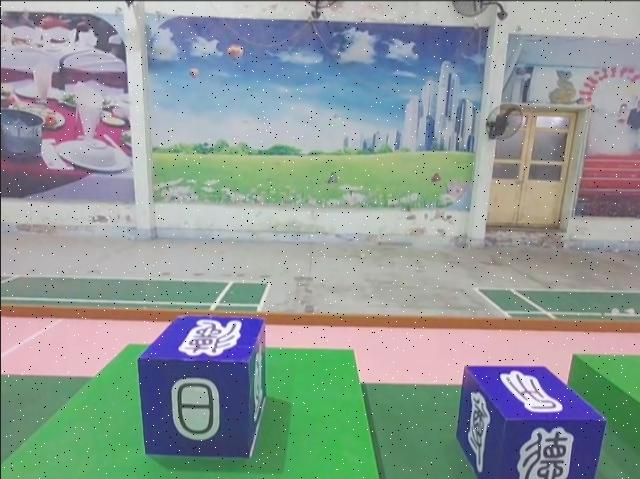R2 Fake Blue: (138, 313, 267, 462), (457, 366, 607, 479)
